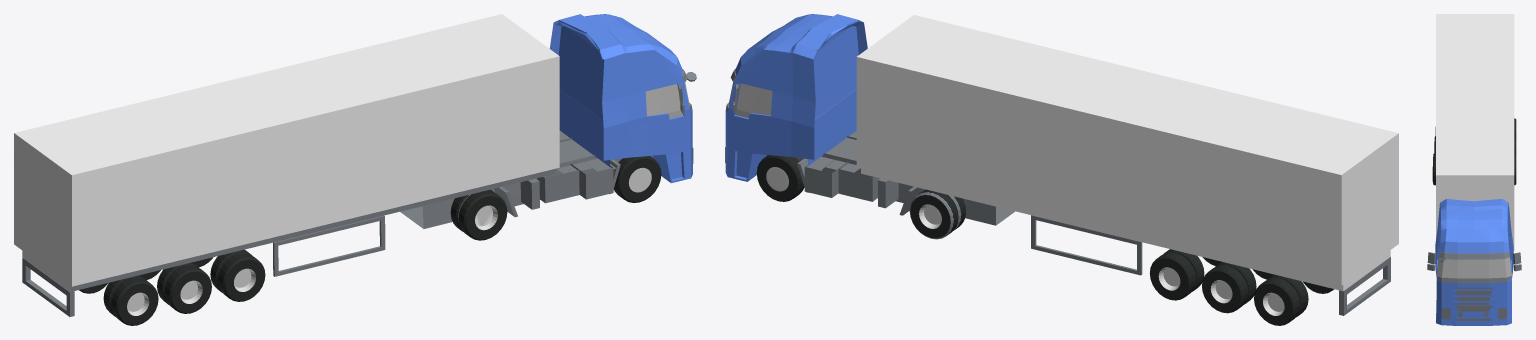
The model's file is sk_hyblue_combine_web.fbx.
3 renders of one model, left to right at view 1: azimuth 30°, elevation 25°; view 2: azimuth 150°, elevation 25°; view 3: azimuth 270°, elevation 25°, orthographic. The views are drawn at different scales.
Parts seen in each view (by area): view 1: sk_saic_hyblue_combine_web; view 2: sk_saic_hyblue_combine_web; view 3: sk_saic_hyblue_combine_web.
Boxes of the visible parts, <box> form: sk_saic_hyblue_combine_web: <box>14,14,696,325</box>; sk_saic_hyblue_combine_web: <box>725,14,1398,325</box>; sk_saic_hyblue_combine_web: <box>1427,14,1521,325</box>.
Bounding box in the file's own units: 15.74 × 4.04 × 3.01.
Materials: 1 (1 with a texture image).
